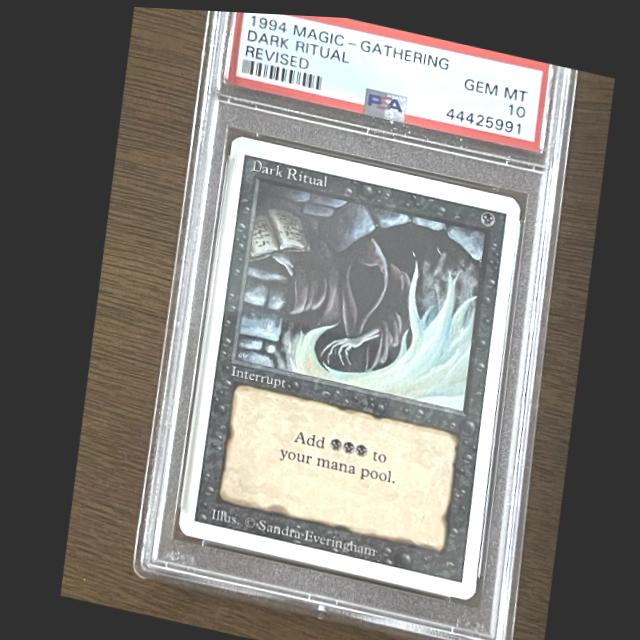card: (170, 130, 520, 597)
psa_label: (224, 10, 550, 147)
psa_slab: (123, 8, 576, 640)
